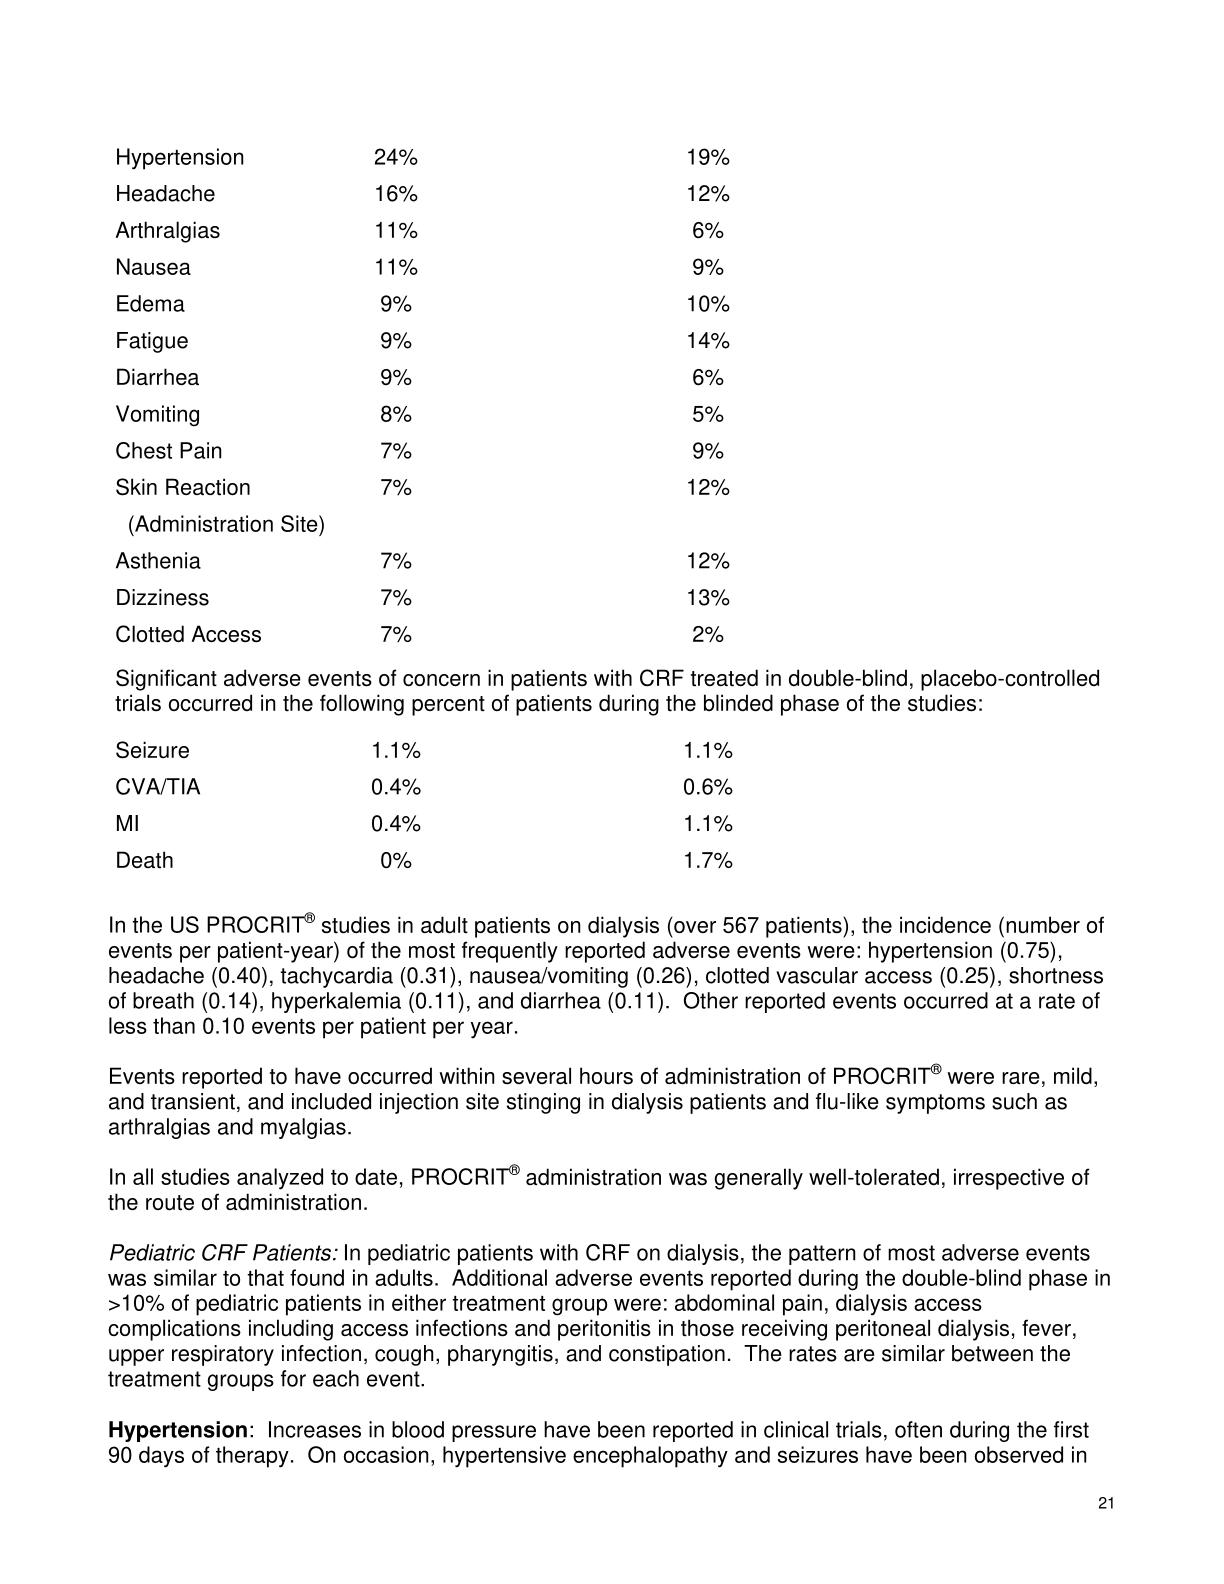nolines: (113, 141, 732, 649), (114, 737, 739, 876)
